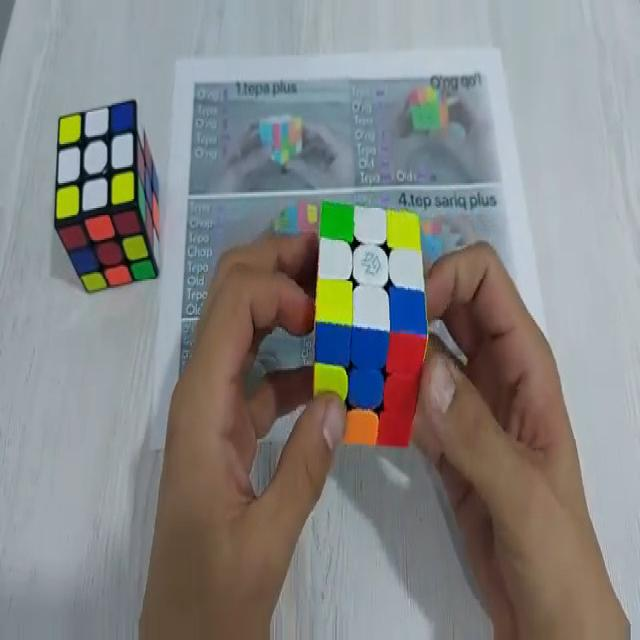Rub: (310, 197, 427, 446), (56, 96, 159, 294)
